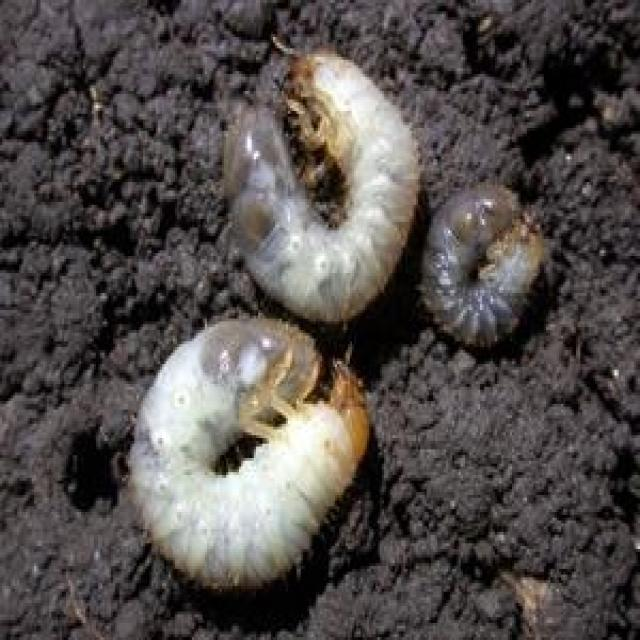grub: (132, 317, 382, 590), (216, 41, 427, 314), (418, 189, 553, 348)
